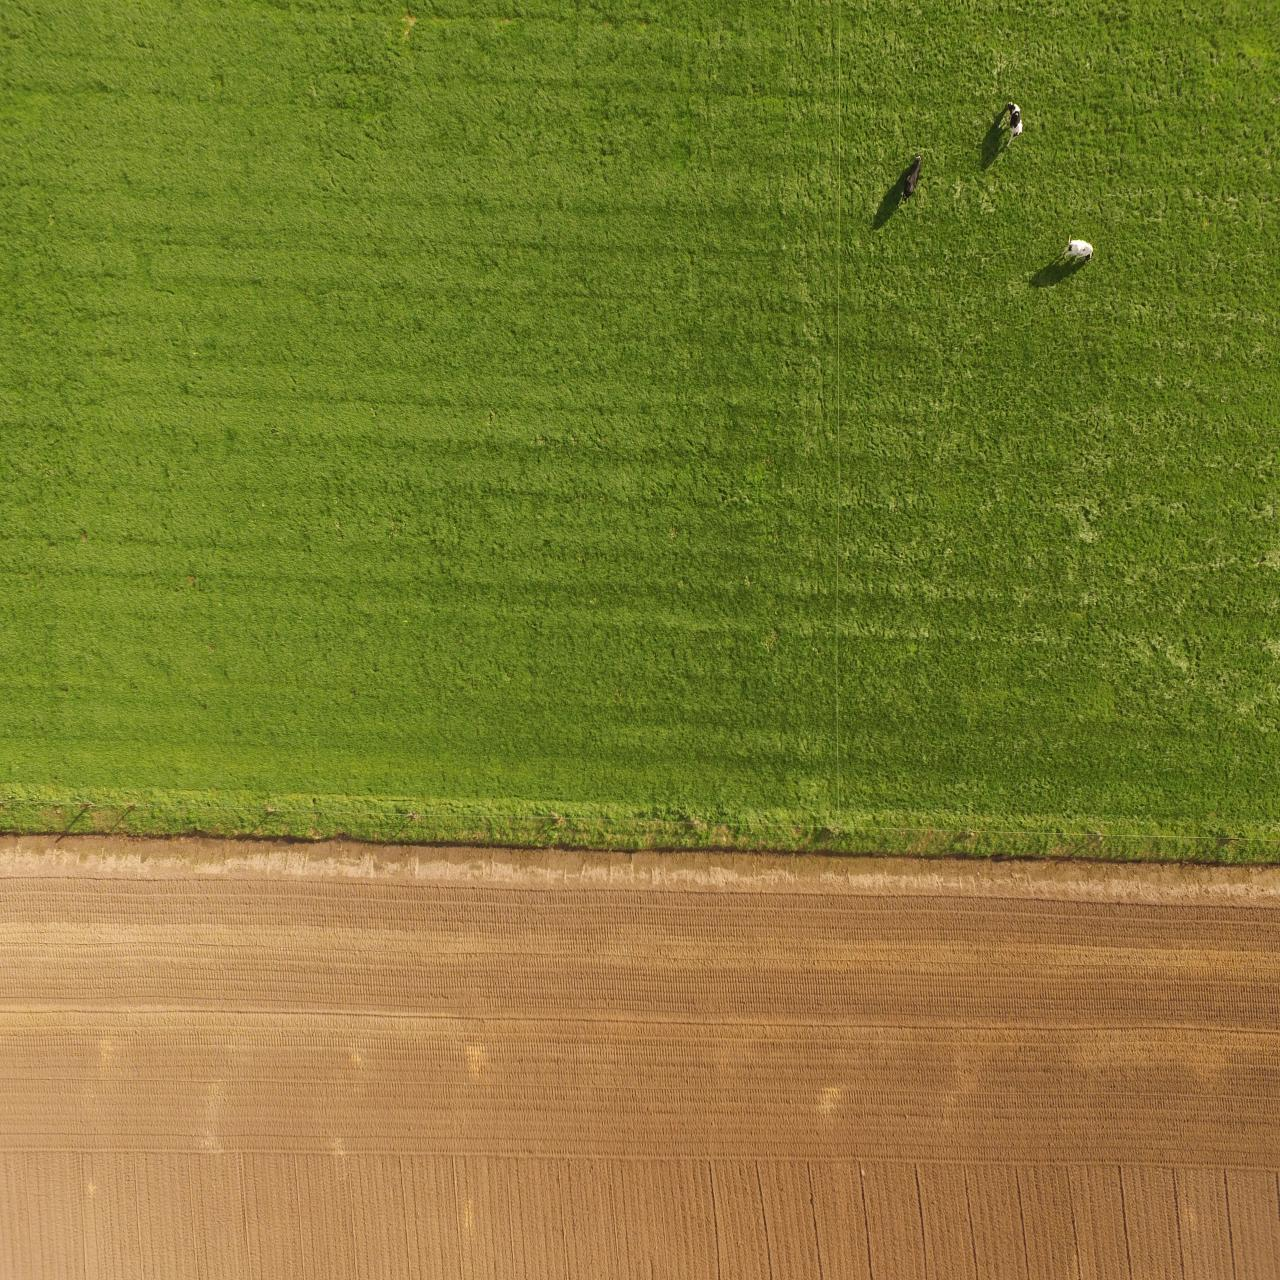cow: (898, 153, 923, 205), (1001, 100, 1025, 150), (1061, 233, 1095, 266)
